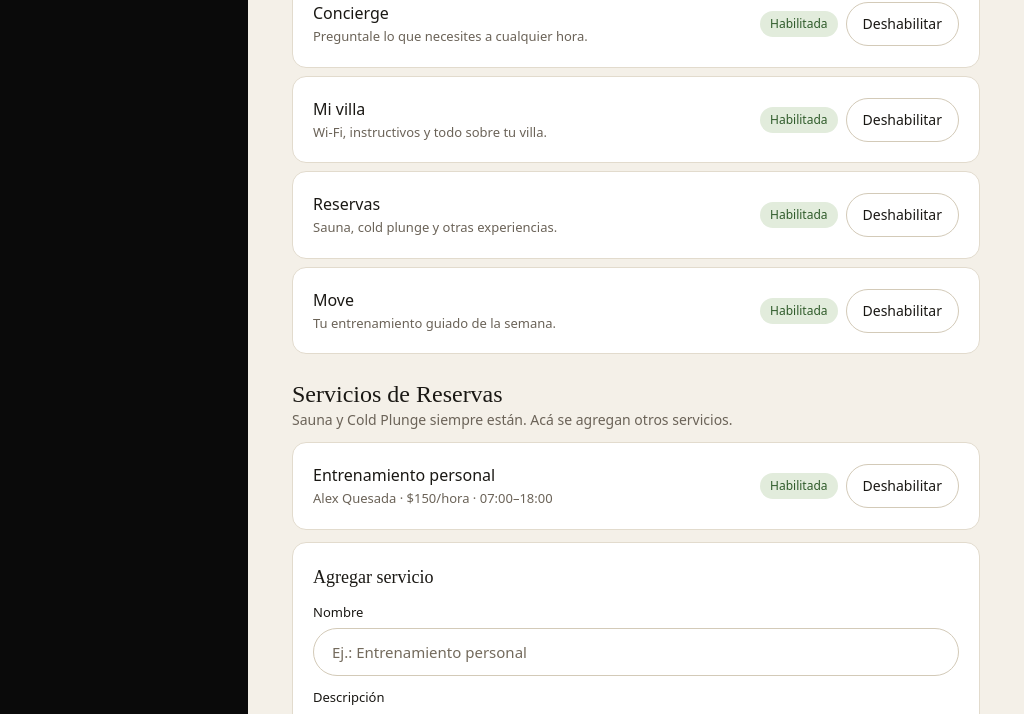
Scenario: servicios de Reservas › deshabilitar un servicio lo saca de las opciones de Reservas
(page scrolled)
What coordinates should you click on to do the following:
click the button "Deshabilitar" in the row of "18:00"
I would click on:
 (902, 486)
Its box is [846,464,959,508].
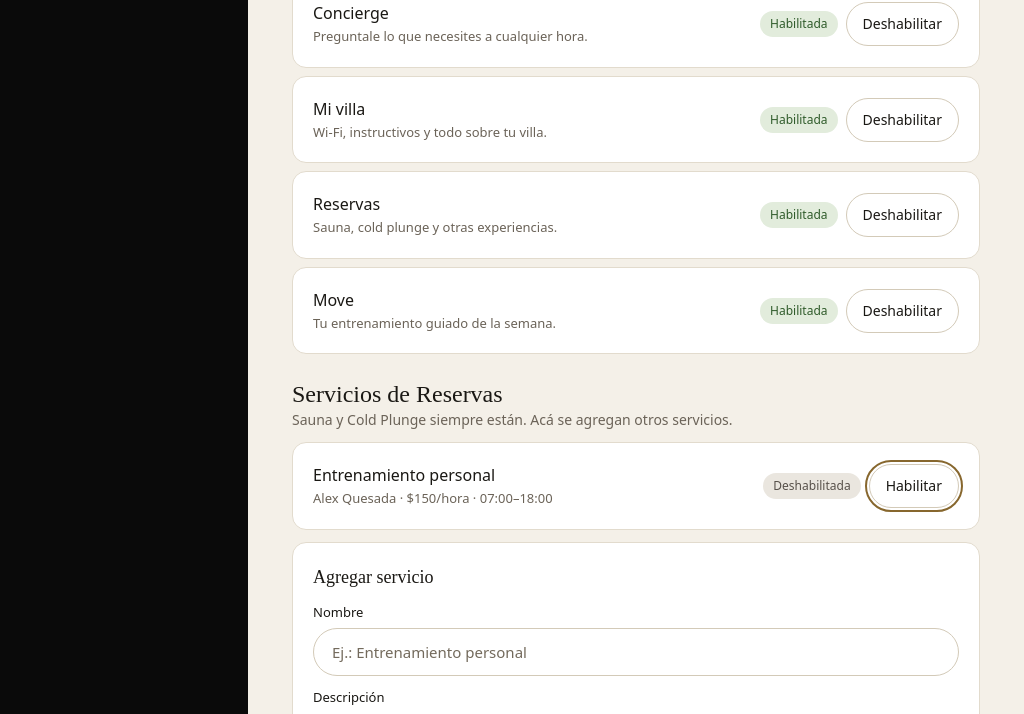
Result: the text "Deshabilitada" is shown at [763,473,861,499]
